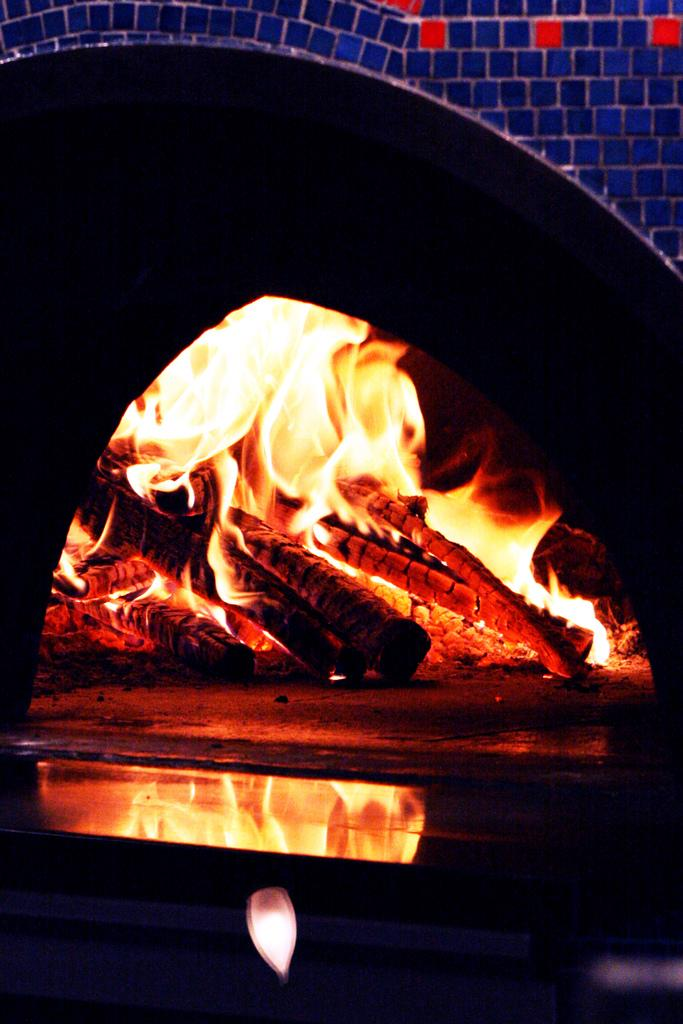Fire: (29, 289, 649, 662), (39, 755, 429, 863)
